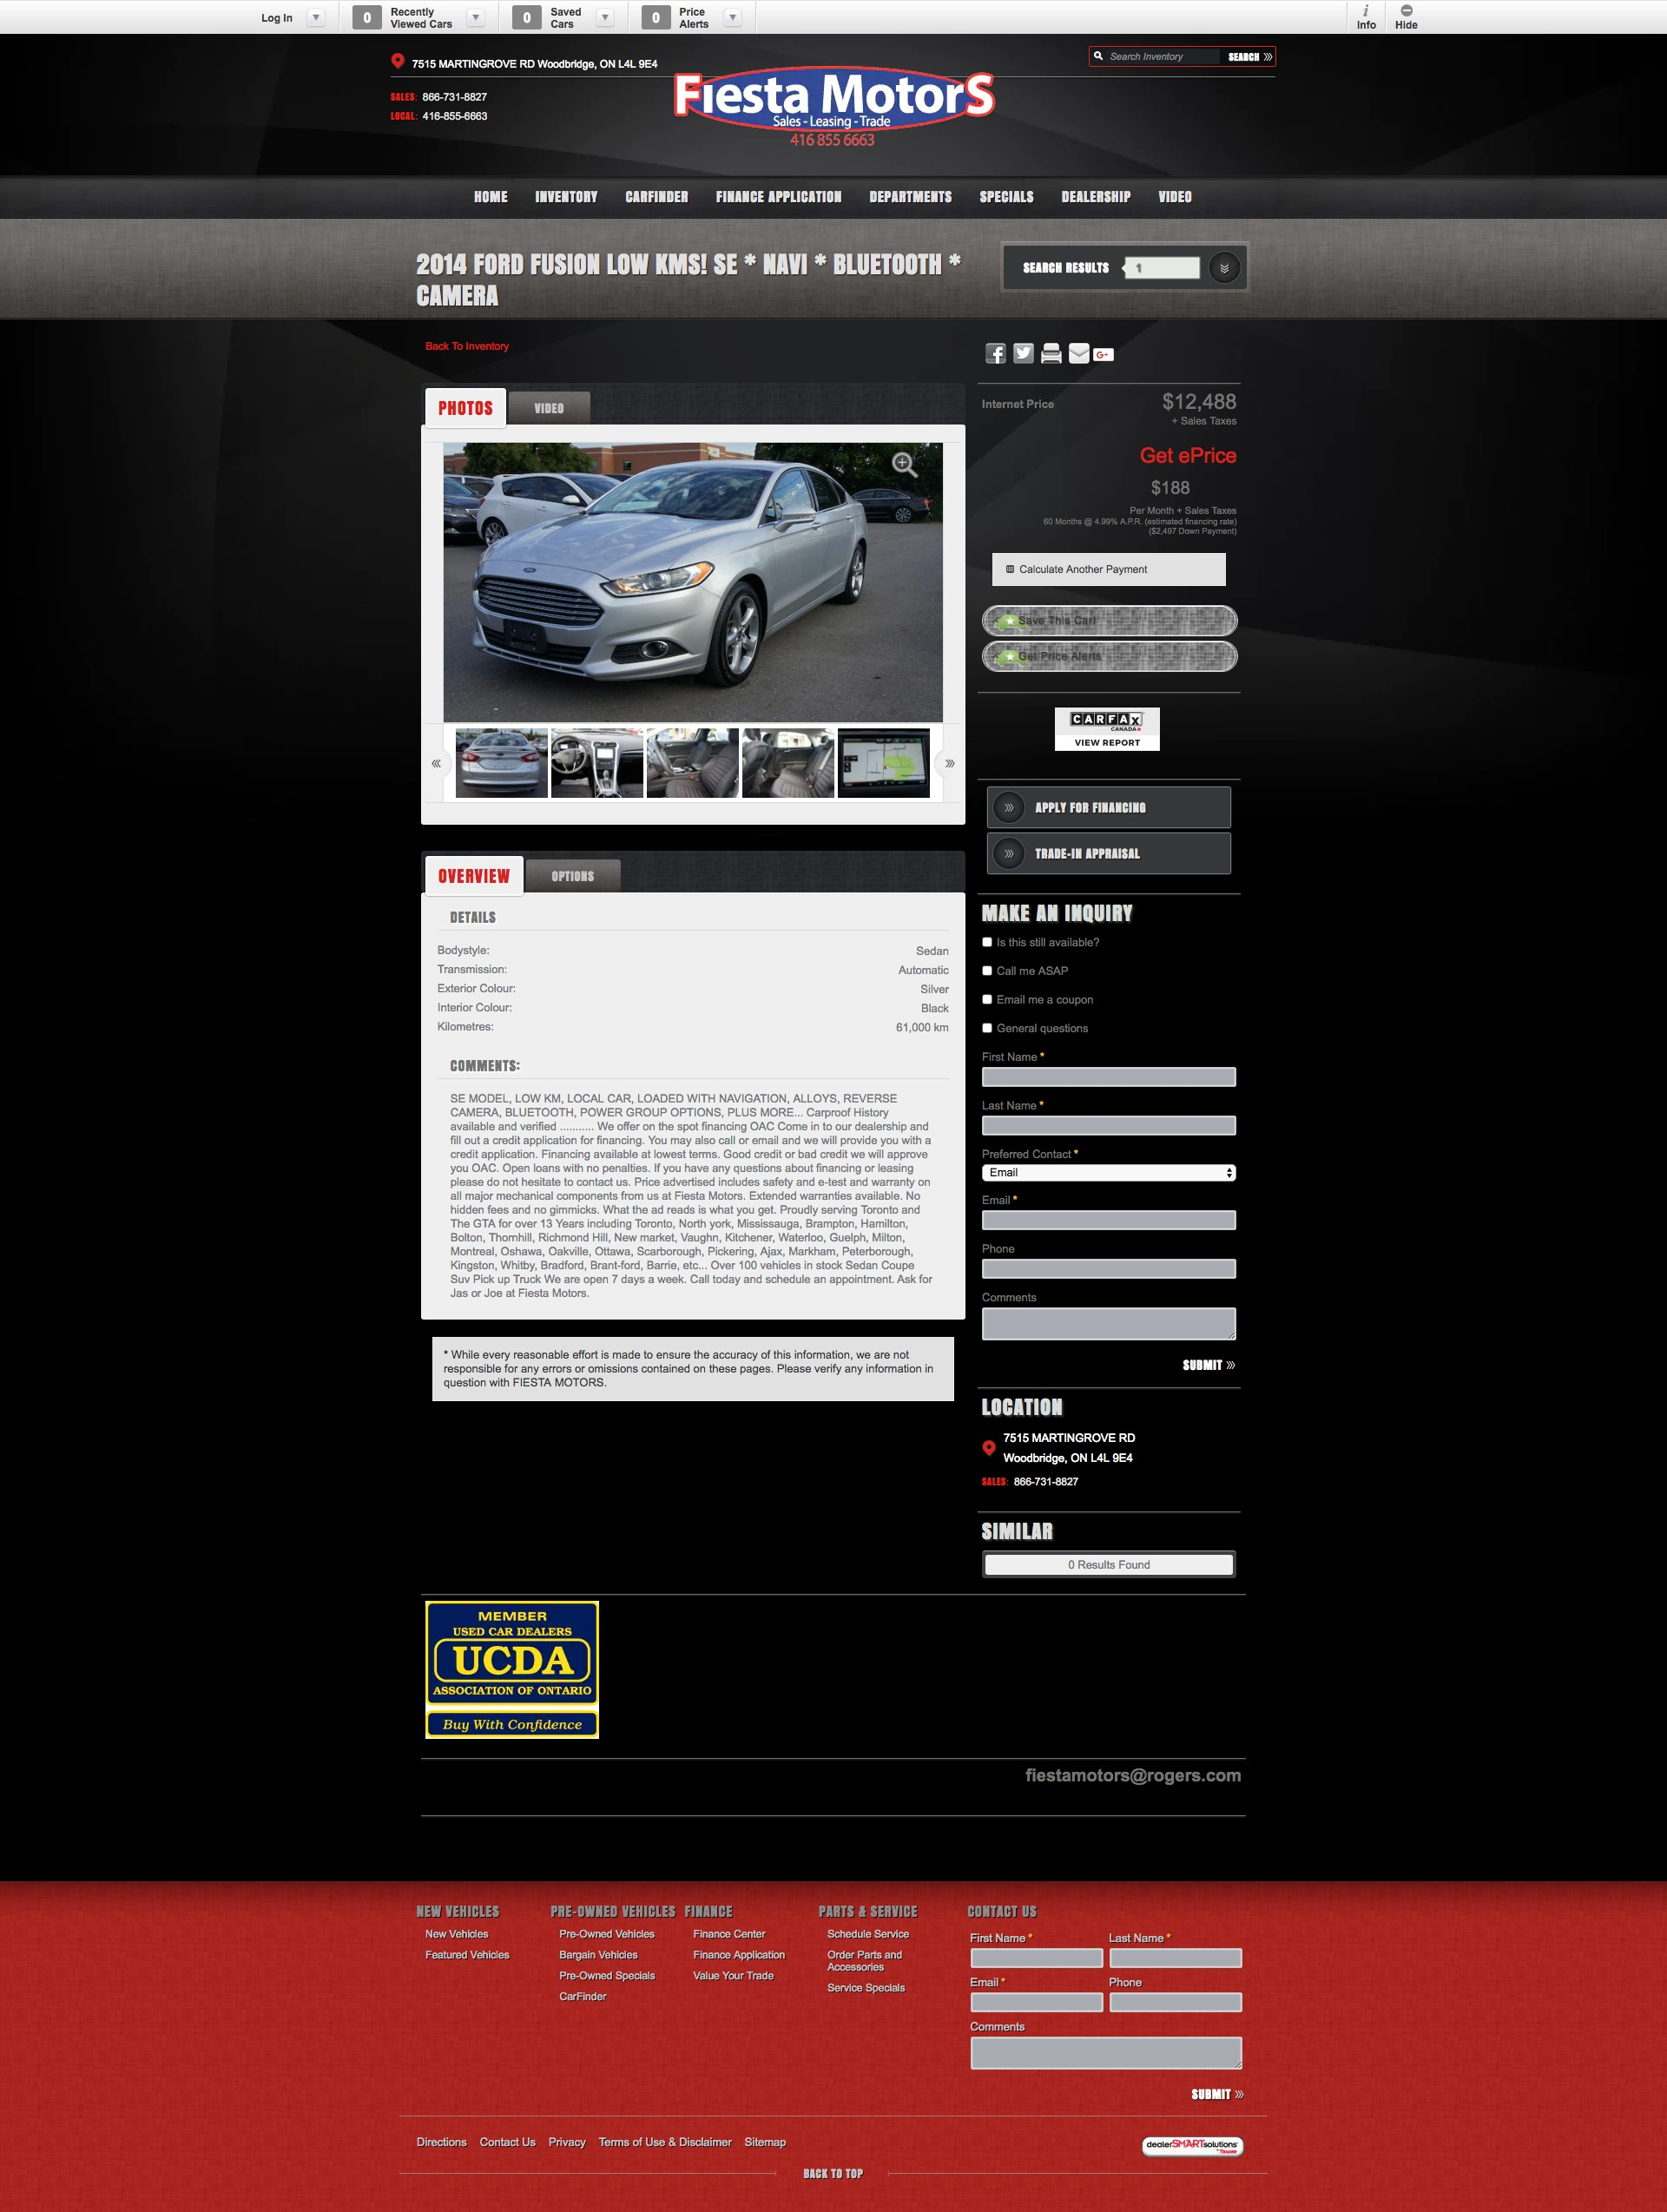car: (946, 759, 956, 768)
